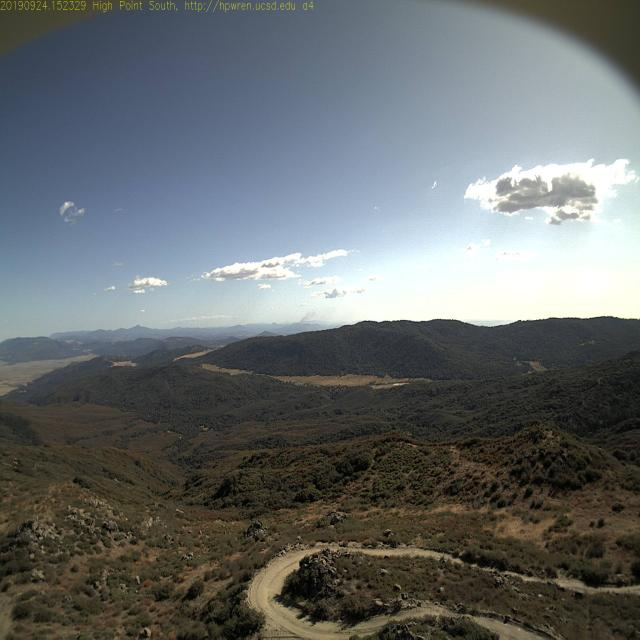smoke: (296, 306, 321, 325)
